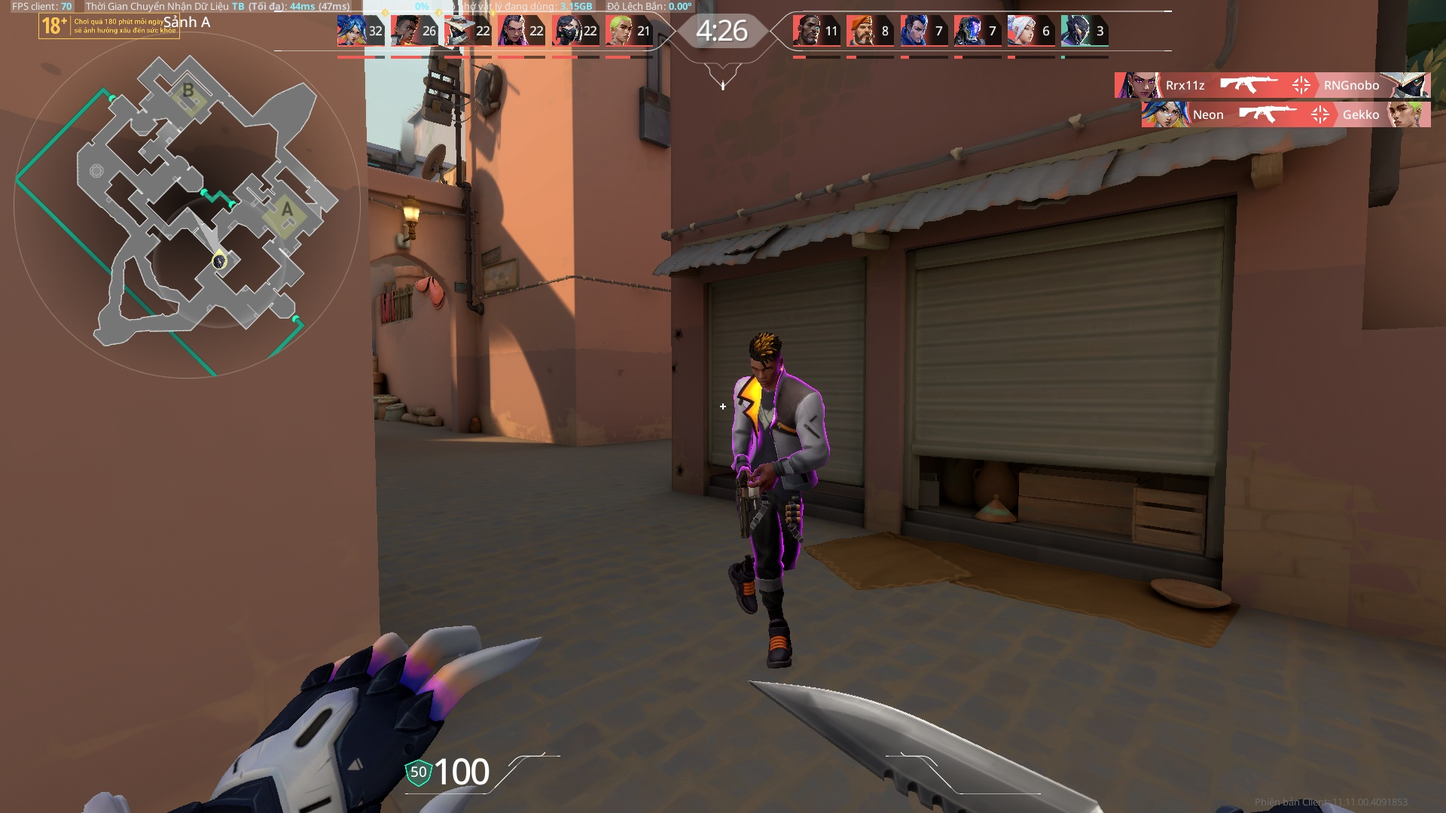body: (729, 376, 825, 494)
head: (742, 330, 784, 380)
